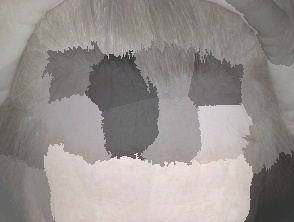vitiligo: (34, 51, 262, 188)
